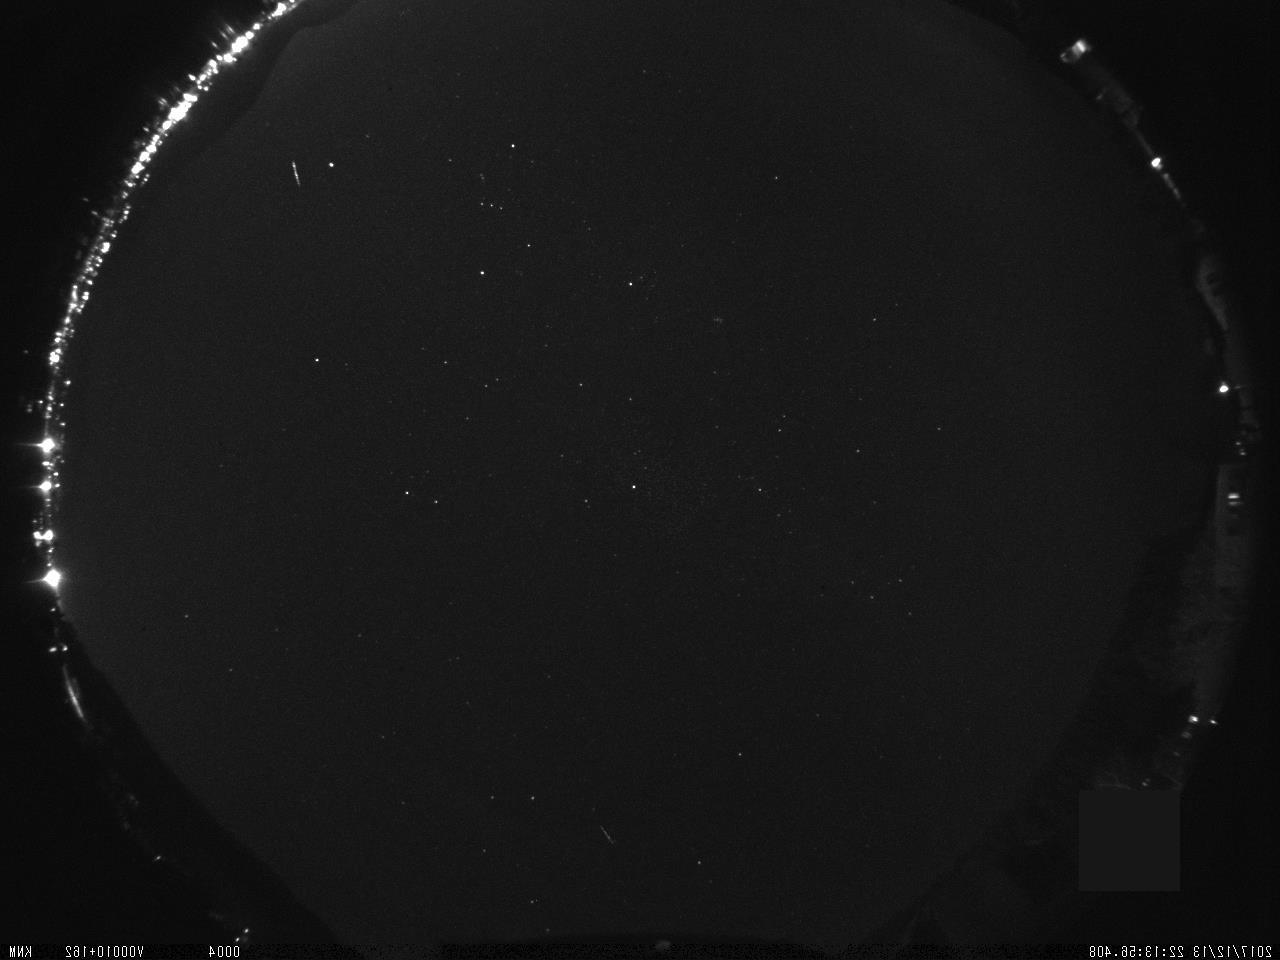meteor: (280, 153, 304, 189)
